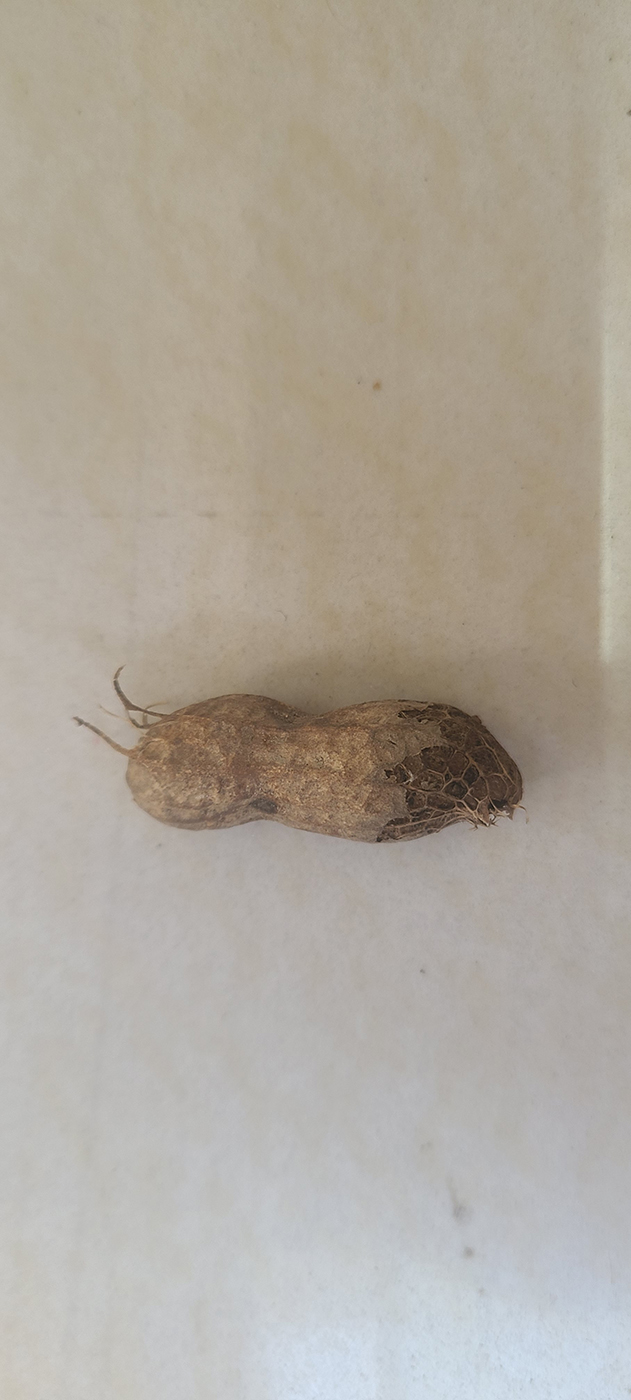l: (121, 691, 528, 842)
